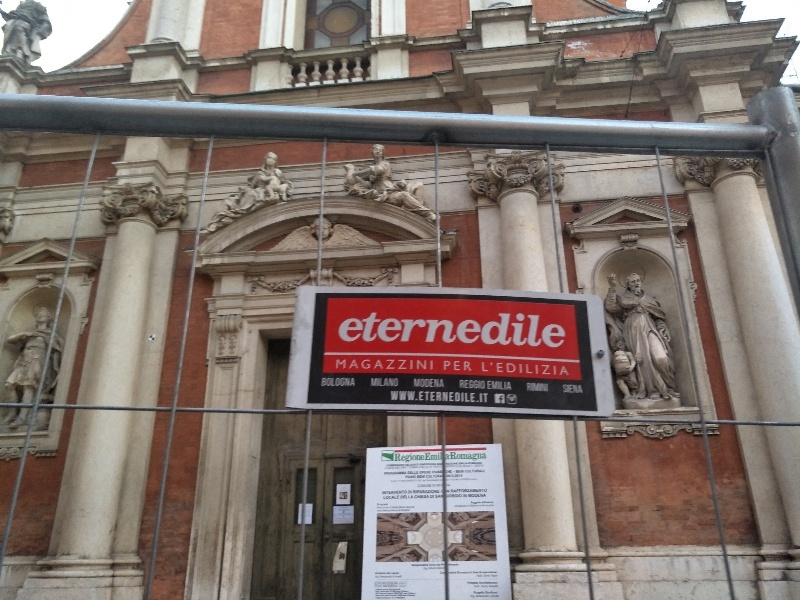text: (353, 311, 368, 353), (369, 311, 384, 353), (385, 311, 400, 353), (401, 311, 416, 353), (417, 311, 432, 353), (433, 311, 448, 353), (449, 311, 464, 353), (465, 311, 480, 353), (481, 311, 496, 353), (497, 311, 512, 353), (513, 311, 528, 353), (529, 311, 544, 353), (545, 311, 560, 353), (338, 311, 352, 353), (561, 311, 571, 353), (481, 361, 496, 377), (497, 361, 512, 377), (513, 361, 528, 377), (529, 361, 544, 377), (545, 361, 560, 377), (337, 358, 352, 372), (353, 358, 368, 372), (369, 358, 384, 372), (385, 358, 400, 372), (401, 358, 416, 372), (417, 358, 432, 372), (401, 390, 416, 404), (417, 390, 432, 404), (433, 390, 448, 404), (449, 390, 464, 404), (465, 390, 480, 404), (449, 360, 464, 372), (529, 381, 544, 393), (401, 452, 416, 464), (417, 452, 432, 464), (449, 451, 464, 463), (465, 451, 480, 463), (497, 380, 513, 391), (321, 377, 336, 388), (337, 377, 352, 388), (465, 379, 480, 390), (561, 361, 571, 377), (370, 377, 384, 388), (385, 377, 399, 388), (562, 383, 576, 394), (417, 378, 432, 388), (390, 390, 400, 404), (433, 452, 444, 464), (433, 378, 445, 388), (481, 390, 489, 404), (486, 380, 496, 391), (465, 360, 473, 372), (465, 488, 480, 494), (451, 488, 464, 494), (577, 383, 584, 394), (385, 471, 400, 476), (465, 469, 480, 474), (385, 490, 400, 495), (385, 495, 400, 500), (401, 495, 416, 500), (394, 452, 400, 464), (481, 451, 487, 463), (449, 474, 463, 479), (449, 494, 463, 499), (417, 494, 430, 499), (435, 494, 448, 499), (467, 581, 480, 586), (449, 470, 465, 474), (443, 360, 448, 372), (545, 381, 550, 393), (465, 462, 480, 466), (417, 475, 432, 479), (417, 484, 432, 488), (417, 490, 432, 494), (385, 575, 400, 579), (481, 585, 496, 589), (482, 501, 496, 505), (459, 379, 464, 390), (481, 379, 486, 390), (385, 509, 398, 513), (433, 474, 443, 479), (420, 471, 432, 475), (468, 494, 480, 498), (433, 470, 442, 475), (401, 510, 416, 513), (481, 582, 496, 585), (405, 476, 416, 480), (437, 484, 448, 488), (485, 591, 496, 595), (386, 464, 400, 467), (481, 488, 488, 494), (386, 572, 400, 575), (482, 571, 496, 574), (385, 582, 399, 585), (408, 471, 416, 476), (408, 490, 416, 495), (470, 501, 480, 505), (454, 505, 464, 509), (449, 563, 459, 567), (438, 567, 448, 571), (470, 571, 480, 575), (470, 595, 480, 599), (467, 505, 480, 508), (481, 505, 494, 508), (445, 451, 448, 463), (417, 564, 429, 567), (375, 572, 384, 576), (391, 572, 400, 576), (484, 575, 496, 578), (441, 489, 448, 494), (353, 377, 356, 388), (421, 463, 432, 466), (437, 463, 448, 466), (437, 564, 448, 567), (392, 506, 400, 510), (424, 568, 432, 572), (385, 589, 401, 591), (413, 378, 416, 388), (406, 464, 416, 467), (401, 471, 407, 476), (426, 474, 432, 479), (401, 490, 407, 495), (406, 506, 416, 509), (470, 505, 480, 508), (374, 582, 384, 585), (433, 490, 440, 494), (441, 563, 448, 567), (489, 585, 496, 589), (489, 595, 496, 599), (375, 576, 384, 579), (481, 595, 490, 598), (403, 591, 416, 593), (526, 381, 528, 393), (481, 494, 487, 498), (376, 510, 384, 513), (440, 572, 448, 575), (449, 572, 457, 575), (472, 571, 480, 574), (474, 591, 480, 595), (376, 597, 384, 600), (388, 593, 400, 595), (404, 593, 416, 595), (377, 503, 384, 506), (457, 572, 464, 575), (401, 584, 408, 587), (459, 462, 464, 466), (481, 469, 485, 474), (390, 507, 400, 509), (474, 585, 480, 588), (375, 589, 384, 591), (394, 592, 400, 595), (428, 567, 432, 571), (433, 567, 437, 571), (380, 575, 384, 579), (481, 591, 485, 595), (376, 593, 384, 595), (408, 595, 416, 597), (433, 463, 438, 466), (401, 506, 406, 509), (465, 572, 470, 575), (491, 575, 496, 578), (385, 597, 390, 600), (335, 358, 336, 372), (433, 358, 434, 372), (377, 507, 384, 509), (401, 582, 408, 584), (409, 593, 416, 595), (401, 464, 405, 467), (433, 484, 436, 488), (413, 490, 416, 494), (465, 494, 468, 498), (412, 564, 416, 567), (476, 575, 480, 578), (476, 595, 480, 598), (497, 595, 500, 599), (396, 597, 400, 600), (401, 597, 405, 600), (417, 471, 419, 476), (446, 474, 448, 479), (382, 490, 384, 495), (414, 494, 416, 499), (446, 494, 448, 499), (417, 464, 420, 467), (385, 503, 388, 506), (429, 564, 432, 567), (433, 564, 436, 567), (446, 470, 448, 474), (449, 483, 451, 487), (430, 495, 432, 499), (433, 495, 435, 499), (385, 507, 389, 509), (465, 505, 467, 509), (401, 575, 403, 579), (401, 592, 403, 595), (447, 489, 448, 494), (449, 489, 450, 494), (383, 495, 384, 500), (481, 462, 482, 466), (447, 483, 448, 487), (463, 494, 464, 498), (383, 509, 384, 513), (481, 501, 482, 505), (385, 572, 386, 576), (497, 585, 498, 589), (497, 591, 498, 595), (385, 593, 387, 595), (399, 506, 400, 509), (399, 510, 400, 513), (479, 571, 480, 574), (481, 571, 482, 574), (481, 575, 482, 578), (497, 575, 498, 578), (479, 582, 480, 585), (497, 582, 498, 585), (383, 582, 384, 585), (399, 584, 400, 587), (399, 582, 400, 584), (383, 589, 384, 591)
